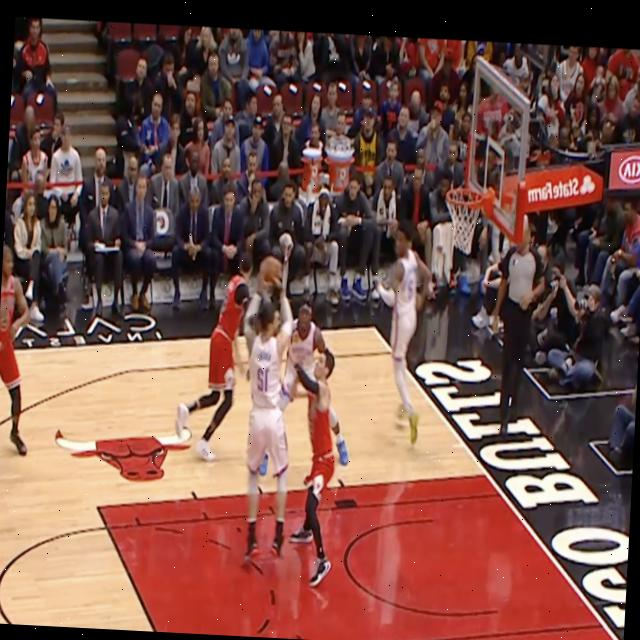no foul: (228, 248, 364, 584), (0, 245, 21, 504)
